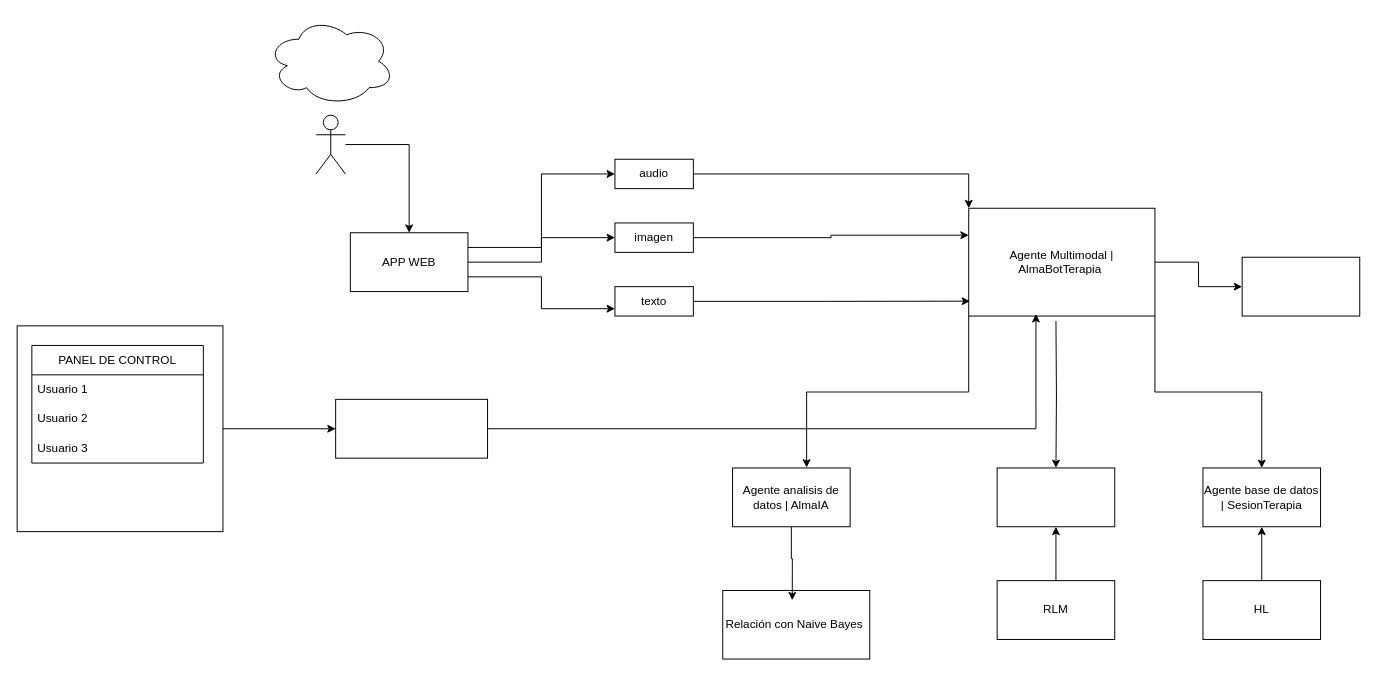
Some shapes in this 1377 by 676 pixel diagram are drawn without their labels. Here are the shapes that lost their labels. From the top down, the centre of each, then its label:
At pixel 330 60: "Mi nombre es julia y estoy triste".
At pixel 330 144: "UsuarioAnonimo".
At pixel 1300 286: "Respuesta".
At pixel 411 428: "LMM- GUARDA DATA EN BD EN POSGRES | Mensaje".
At pixel 1055 497: "Agente recursos interactivos (apoyo terapeutico) | Emoción".
